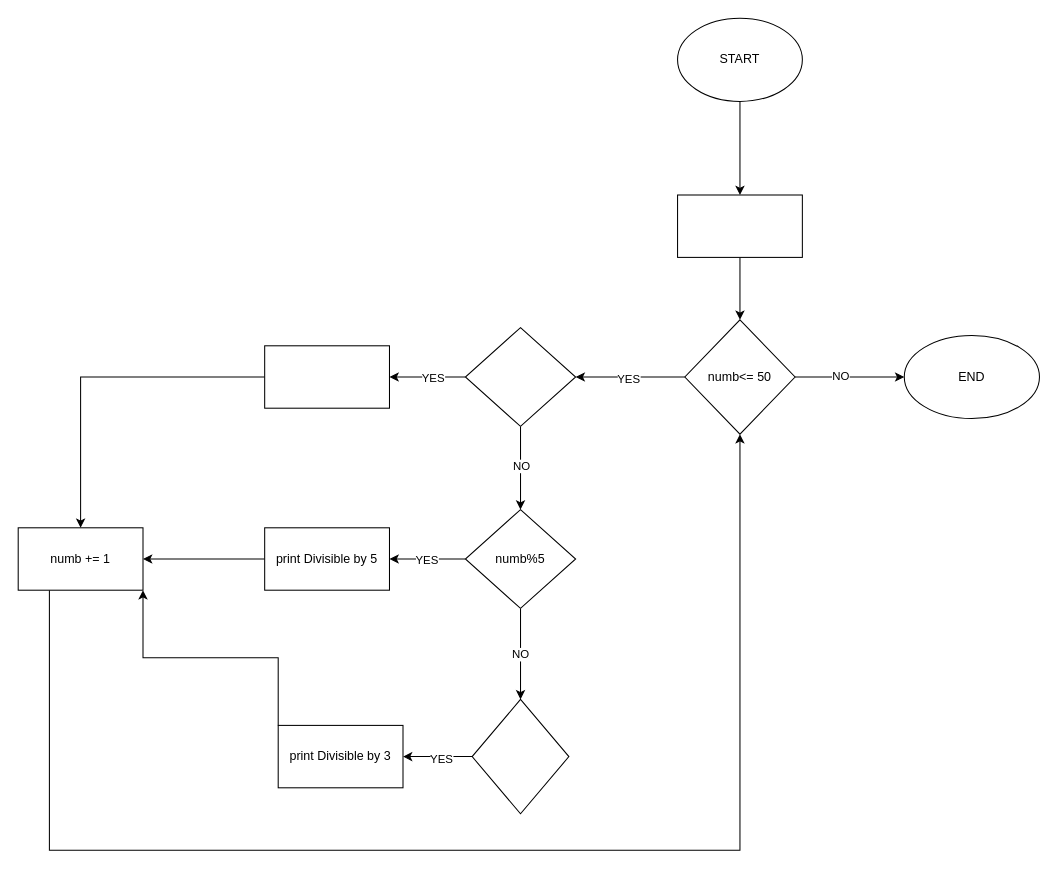
Image size: 1058x877. Some labels were removed from this diagram. The centre of each missing label's shape, as x and y in pixels:
numb % 3: the point at 520,756
numb = 1: the point at 739,225
numb%3 and 5: the point at 520,376
print Divisible by both: the point at 326,376
